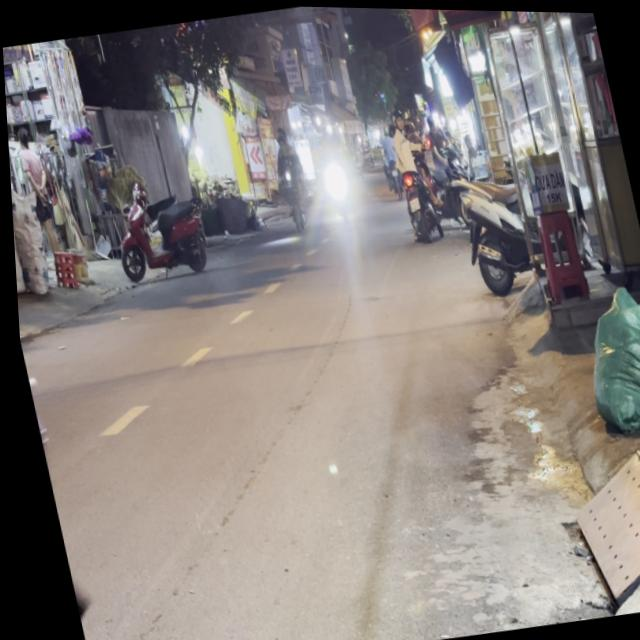licenseplate: (3, 59, 100, 640)
